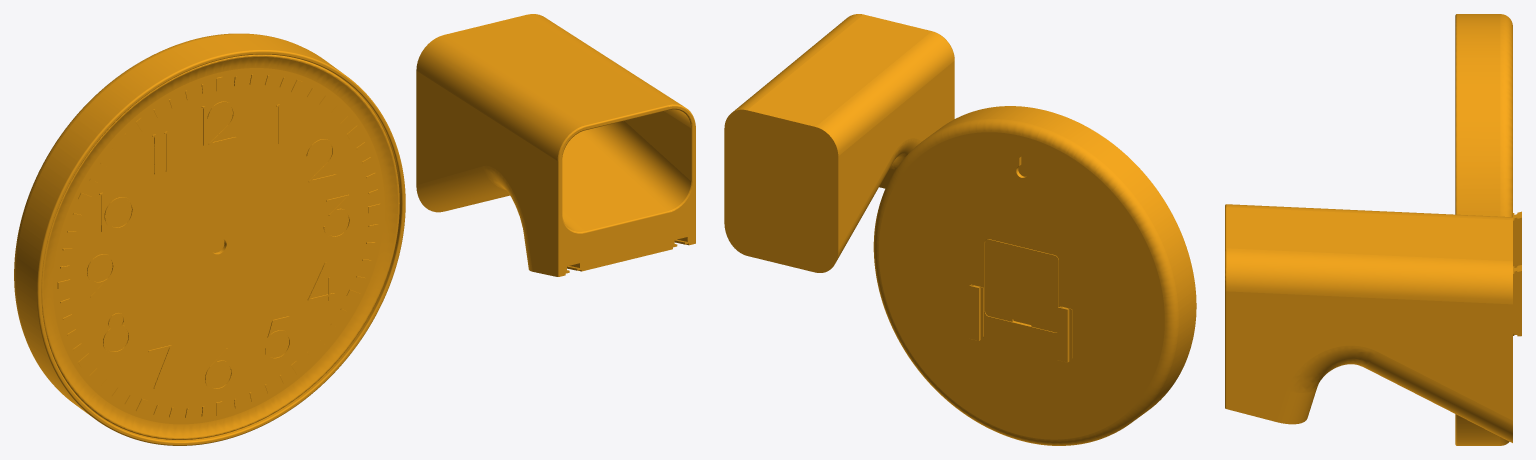
The model's file is clock_recovered.glb.
3 renders of one model, left to right at view 1: azimuth 30°, elevation 25°; view 2: azimuth 150°, elevation 25°; view 3: azimuth 270°, elevation 25°, orthographic. The views are drawn at different scales.
Parts seen in each view (by area): view 1: o1.2, o1.4, o1.1; view 2: o1.1, o1.4, o1.3, o1.5, o1.6; view 3: o1.4, o1.1, o1.6, o1.5.
Boxes of the visible parts, bbox=[...] form: o1.2: bbox=[41, 54, 399, 439]; o1.4: bbox=[416, 14, 695, 276]; o1.1: bbox=[14, 33, 405, 445]; o1.1: bbox=[873, 106, 1196, 445]; o1.4: bbox=[724, 14, 954, 272]; o1.3: bbox=[985, 239, 1058, 332]; o1.5: bbox=[1057, 306, 1072, 362]; o1.6: bbox=[968, 284, 983, 340]; o1.4: bbox=[1225, 204, 1512, 442]; o1.1: bbox=[1455, 14, 1512, 445]; o1.6: bbox=[1513, 265, 1521, 336]; o1.5: bbox=[1513, 211, 1521, 267].
Size of the model in its own units: 0.355 by 0.24 by 0.165.
